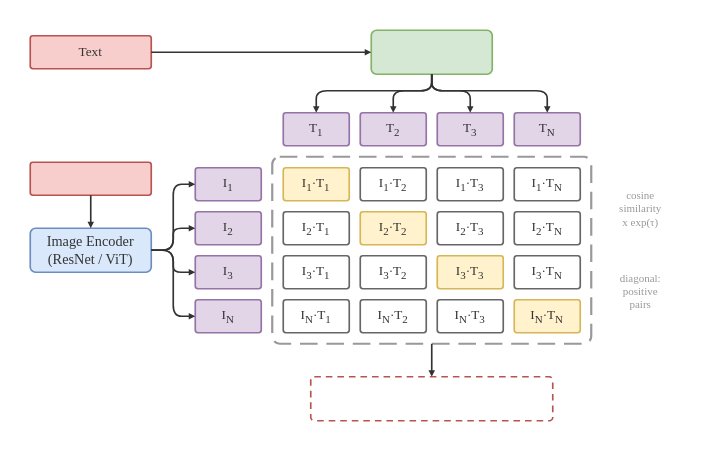
Some shapes in this 708 by 450 pixel diagram are drawn without their labels. The centre of each missing label's shape, as x and y in pixels:
"Image" belongs at (x=90, y=178).
"Symmetric Contrastive Loss (CE over rows and columns)" belongs at (x=431, y=398).
"Text Encoder (Transformer)" belongs at (x=431, y=52).
